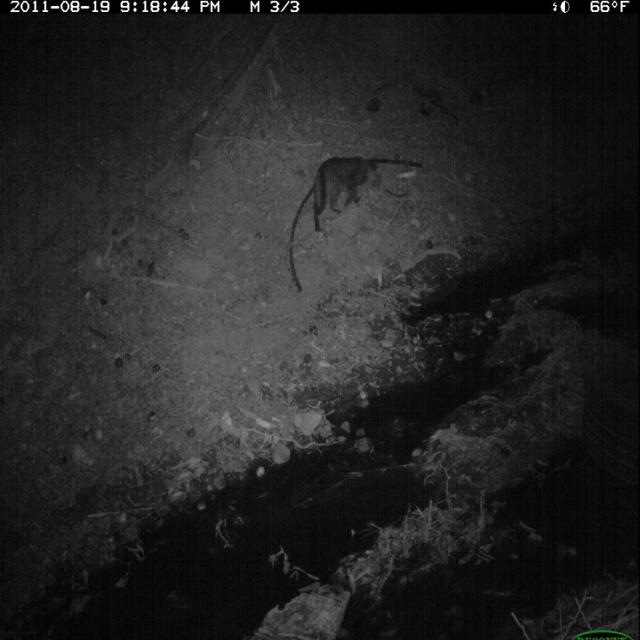cat: (309, 151, 383, 234)
